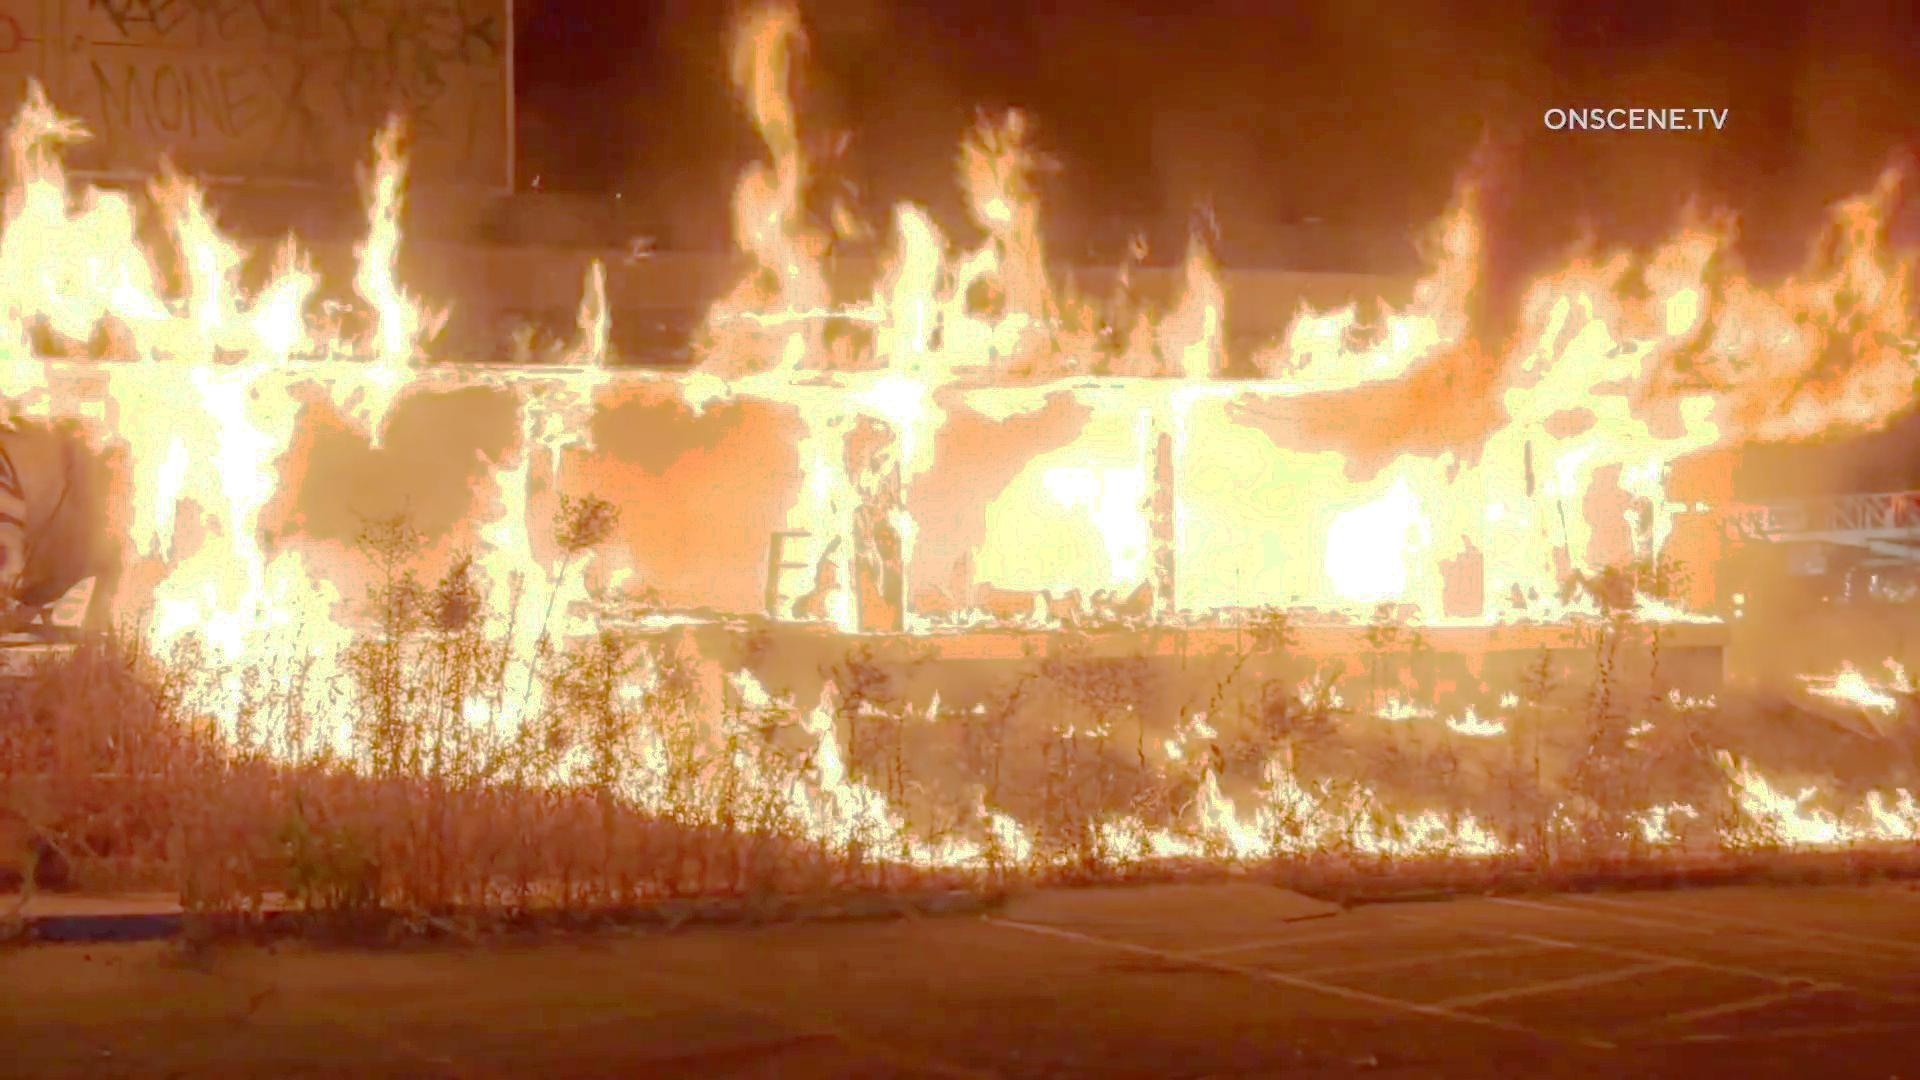fire: (1143, 128, 1887, 596), (1, 53, 443, 731), (691, 5, 1137, 637), (767, 723, 1912, 858), (421, 253, 675, 839)
